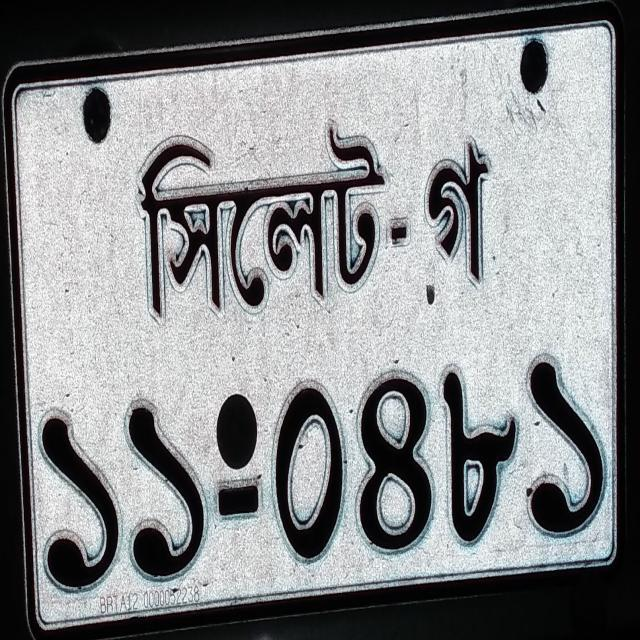numberplate: (1, 1, 625, 636)
